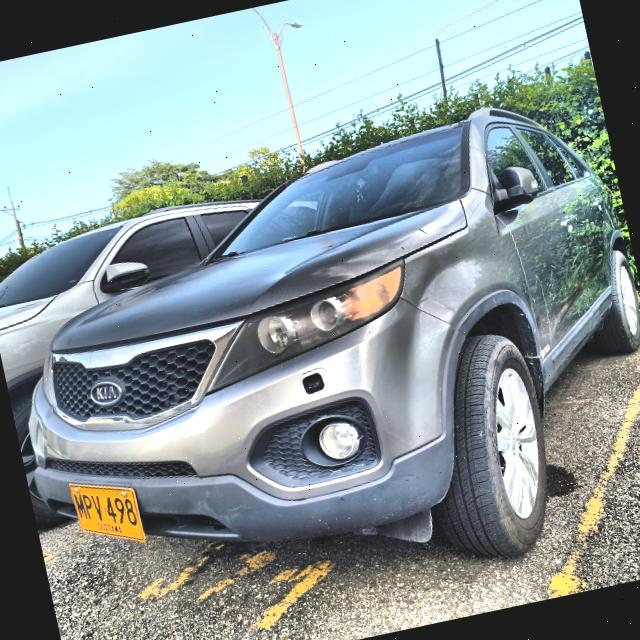4: (105, 495, 118, 523)
8: (123, 496, 139, 526)
9: (113, 495, 127, 524)
M: (72, 492, 88, 519)
P: (81, 493, 97, 519)
V: (89, 493, 105, 521)
